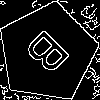B: (22, 27, 79, 84)
